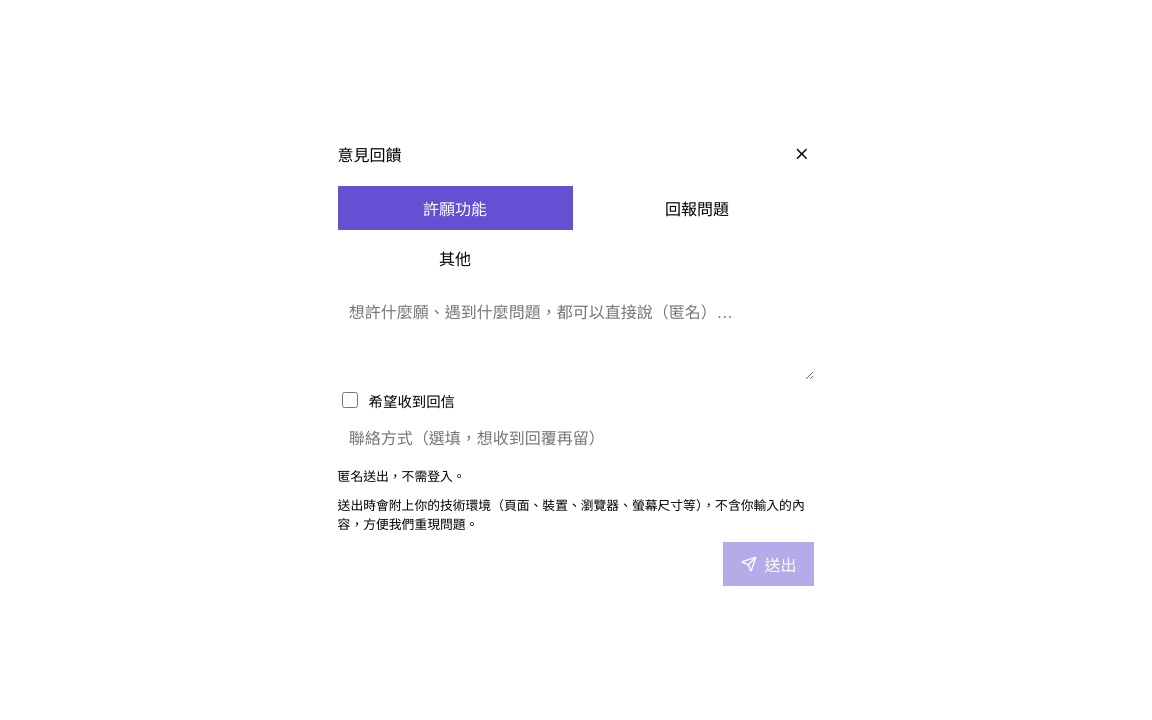
Test: FeedbackForm › disables submit until a message is typed
The image size is (1152, 720).
Expected: the button "送出" is disabled, [723, 542, 814, 586]
Type "想要夜間模式" into the text box with placeholder "想許什麼願、遇到什麼問題，都可以直接說（匿名）…" at (576, 335), box [338, 290, 814, 380]
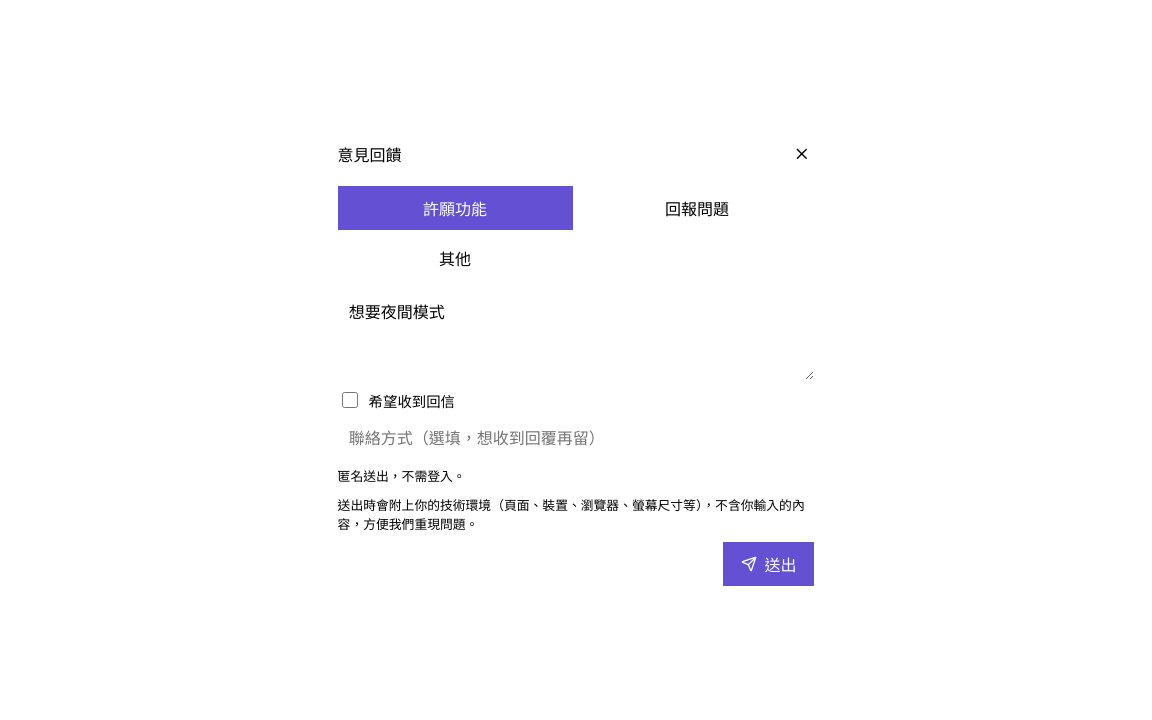
Now the button "送出" is enabled, box [723, 542, 814, 586]
